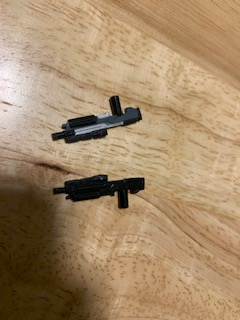rifle: (47, 93, 145, 146), (50, 168, 146, 211)
